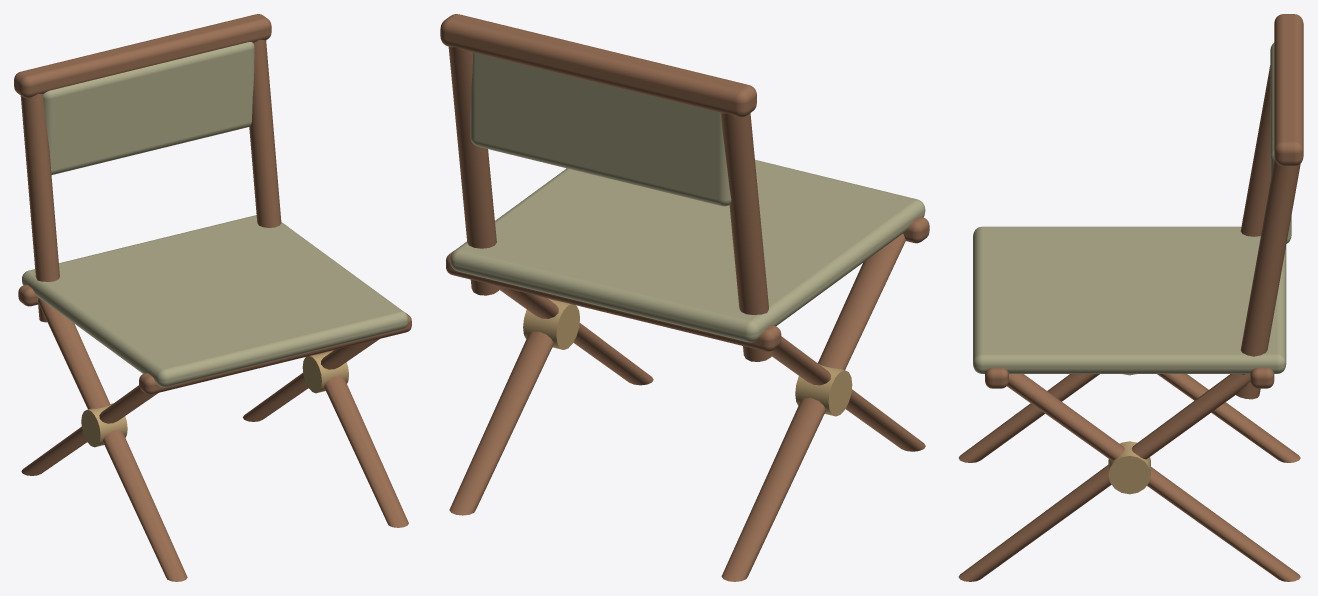
The model's file is foldingchair.glb.
3 renders of one model, left to right at view 1: azimuth 30°, elevation 25°; view 2: azimuth 150°, elevation 25°; view 3: azimuth 270°, elevation 25°, orthographic. The views are drawn at different scales.
Visible parts, largest first — view 1: taut-canvas-seat, canvas-back-panel, back-top-rail, crossed-frame-a--1, back-upright--1, back-upright-1, crossed-frame-a-1, crossed-frame-b--1, crossed-frame-b-1, seat-crossbar-1, hinge-pin--1, hinge-pin-1; view 2: taut-canvas-seat, canvas-back-panel, back-top-rail, crossed-frame-b--1, back-upright--1, back-upright-1, crossed-frame-b-1, crossed-frame-a--1, crossed-frame-a-1, seat-crossbar--1, hinge-pin--1, hinge-pin-1; view 3: taut-canvas-seat, crossed-frame-a-1, crossed-frame-b-1, back-upright-1, back-top-rail, back-upright--1, crossed-frame-b--1, crossed-frame-a--1, hinge-pin-1, canvas-back-panel, seat-crossbar--1, seat-crossbar-1.
Boxes of the visible parts, <box> form: taut-canvas-seat: <box>22,215,408,387</box>; canvas-back-panel: <box>43,42,254,174</box>; back-top-rail: <box>14,14,271,98</box>; crossed-frame-a--1: <box>38,298,187,581</box>; back-upright--1: <box>20,94,59,322</box>; back-upright-1: <box>249,40,281,227</box>; crossed-frame-a-1: <box>316,351,408,527</box>; crossed-frame-b--1: <box>21,385,157,475</box>; crossed-frame-b-1: <box>243,339,379,421</box>; seat-crossbar-1: <box>139,312,411,394</box>; hinge-pin--1: <box>81,403,127,447</box>; hinge-pin-1: <box>302,350,348,393</box>; taut-canvas-seat: <box>450,160,925,342</box>; canvas-back-panel: <box>470,52,731,206</box>; back-top-rail: <box>440,14,756,117</box>; crossed-frame-b--1: <box>721,234,905,581</box>; back-upright--1: <box>720,113,773,361</box>; back-upright-1: <box>448,46,500,295</box>; crossed-frame-b-1: <box>449,298,558,515</box>; crossed-frame-a--1: <box>772,336,925,451</box>; crossed-frame-a-1: <box>499,287,653,385</box>; seat-crossbar--1: <box>446,251,781,351</box>; hinge-pin--1: <box>795,363,852,416</box>; hinge-pin-1: <box>523,298,579,349</box>; taut-canvas-seat: <box>973,226,1286,373</box>; crossed-frame-a-1: <box>958,374,1250,581</box>; crossed-frame-b-1: <box>1007,374,1300,581</box>; back-upright-1: <box>1236,159,1300,399</box>; back-top-rail: <box>1274,14,1303,166</box>; back-upright--1: <box>1240,65,1270,236</box>; crossed-frame-b--1: <box>1157,374,1300,462</box>; crossed-frame-a--1: <box>958,374,1099,462</box>; hinge-pin-1: <box>1108,441,1150,494</box>; canvas-back-panel: <box>1270,43,1291,243</box>; seat-crossbar--1: <box>1250,367,1274,388</box>; seat-crossbar-1: <box>985,367,1008,388</box>.
Bounding box in the file's own units: 0.64 × 0.9133 × 0.6499.
